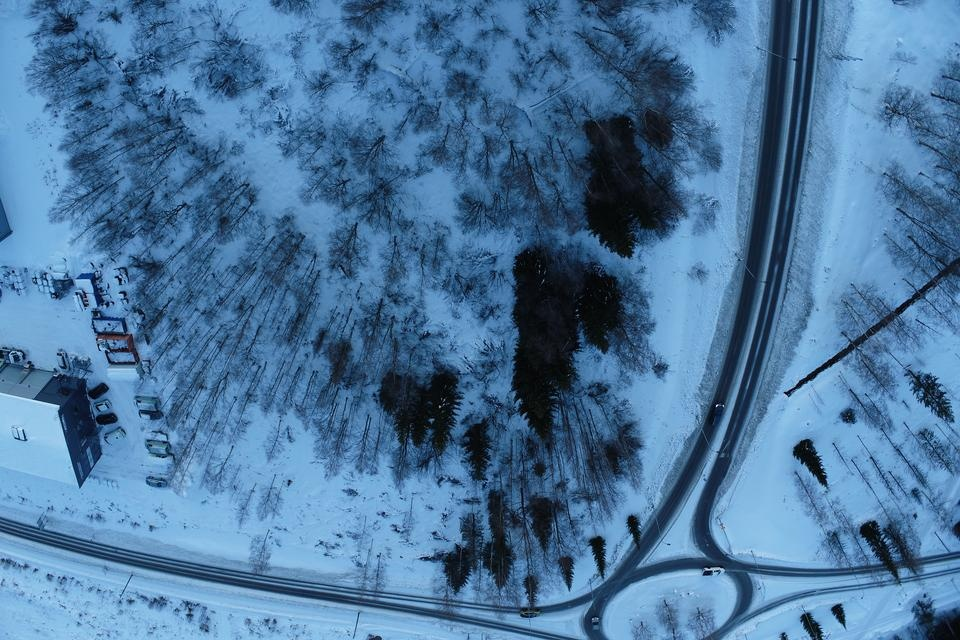roundabout: (539, 540, 809, 640)
